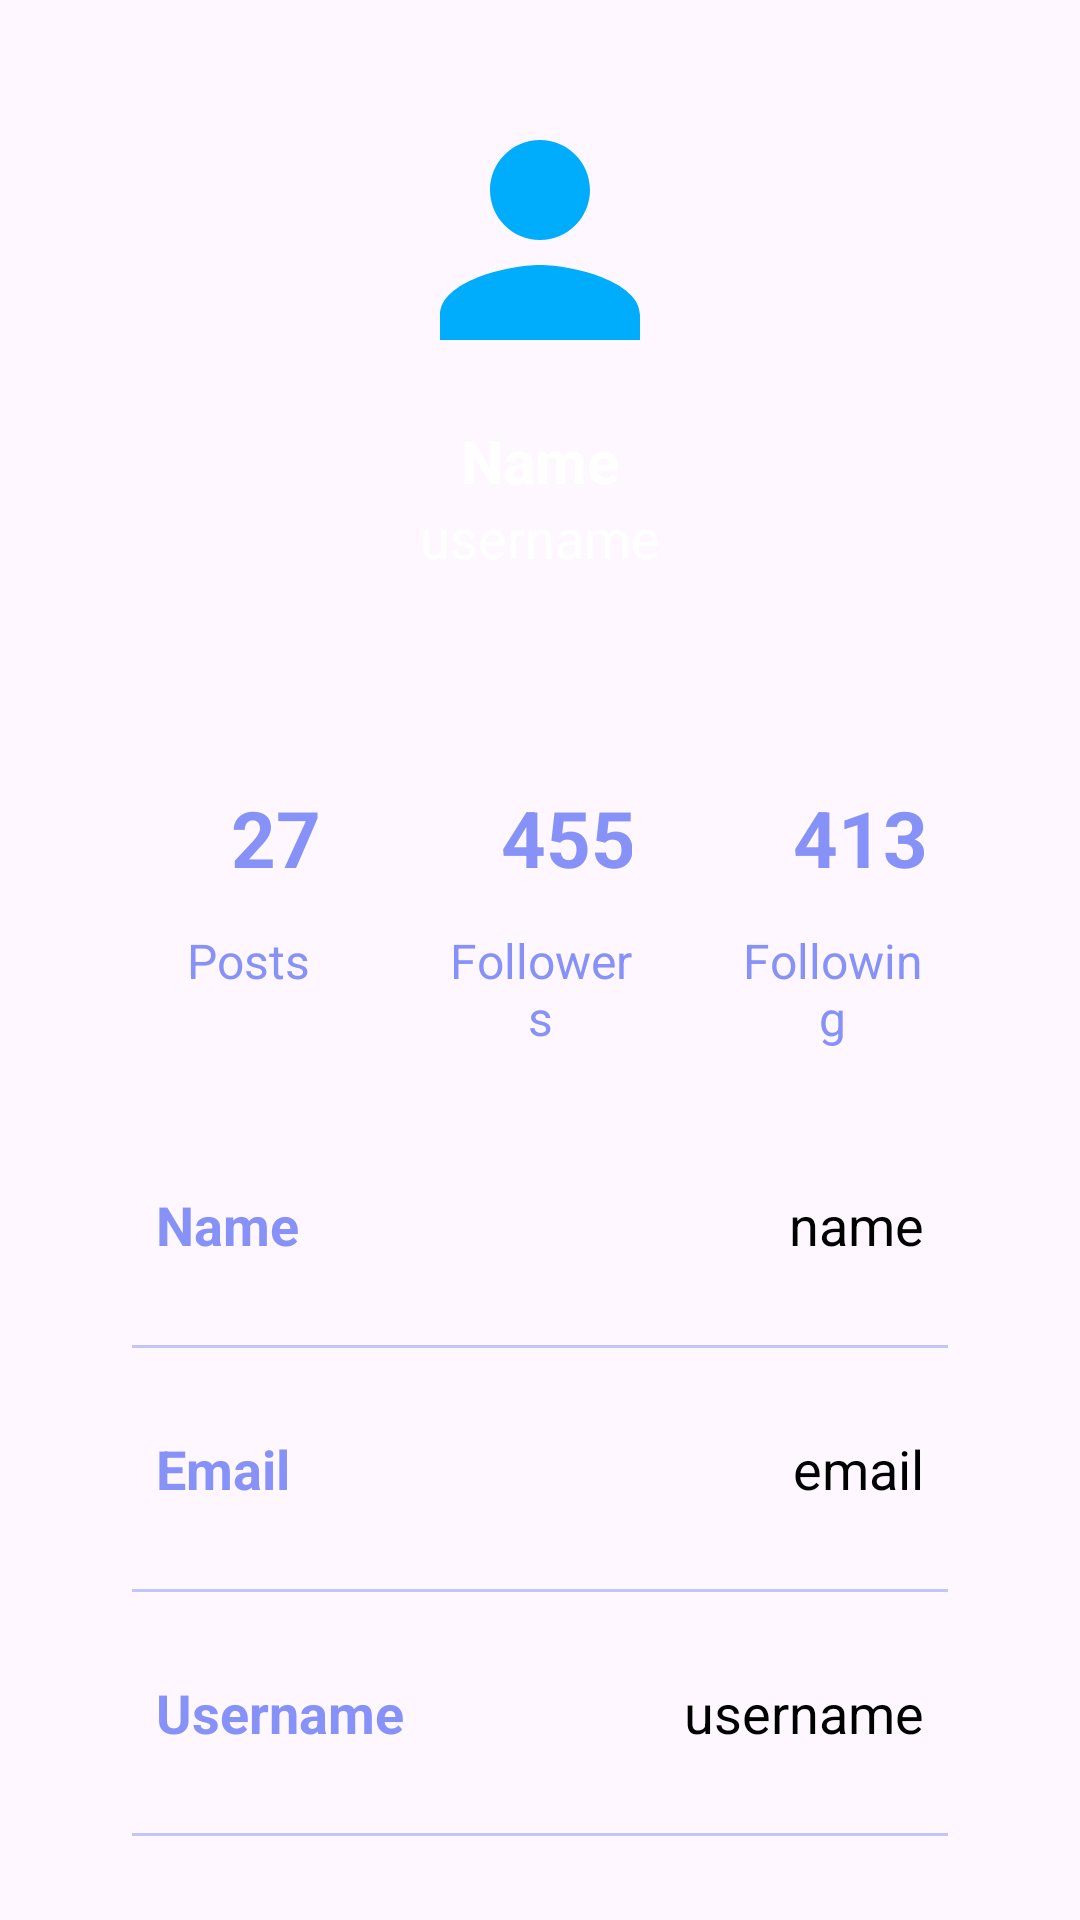

Screen size 1080 x 1920. Icon name, then its center in pixels as [x,y]:
person: [540,240]
